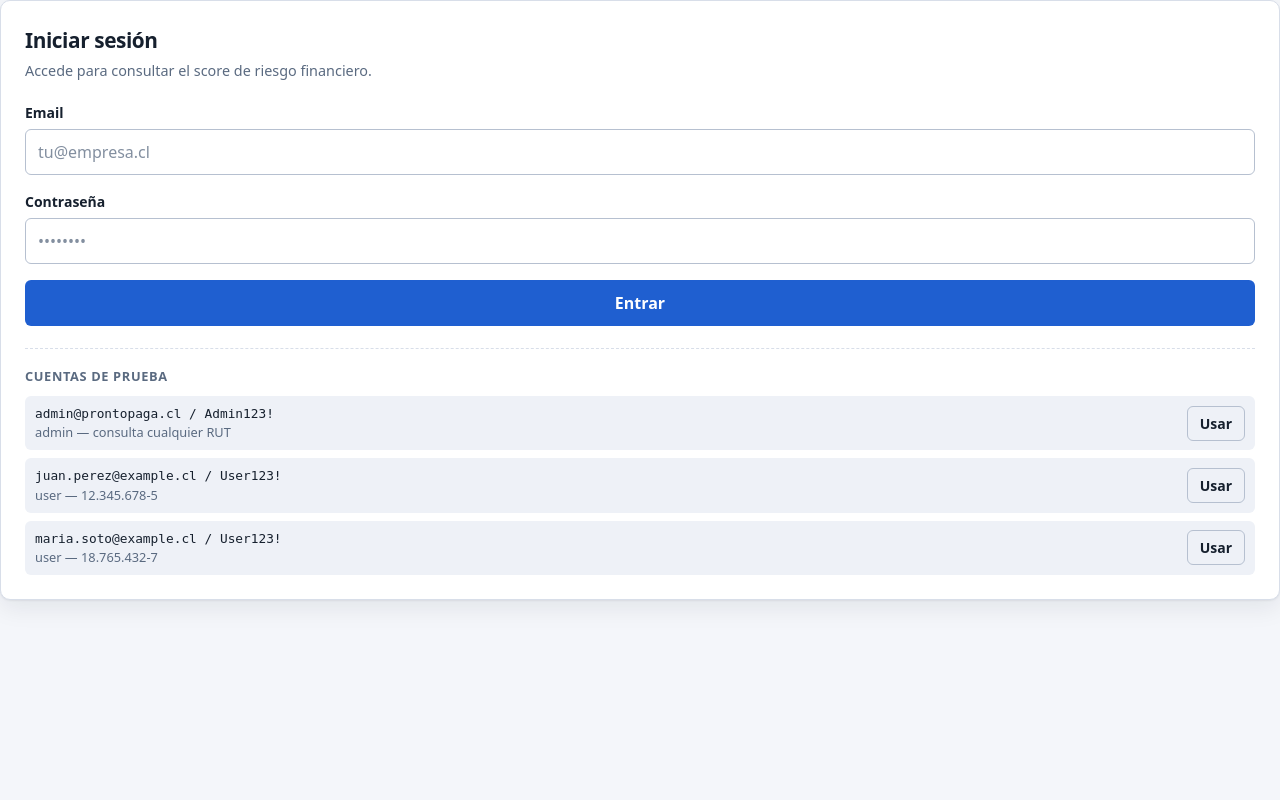
Test: LoginPage › muestra el mensaje de la API cuando las credenciales son incorrectas
Step 1. Type "juan.perez@example.cl" into the field labelled "Email" → (640, 152), box left=25, top=129, right=1255, bottom=175
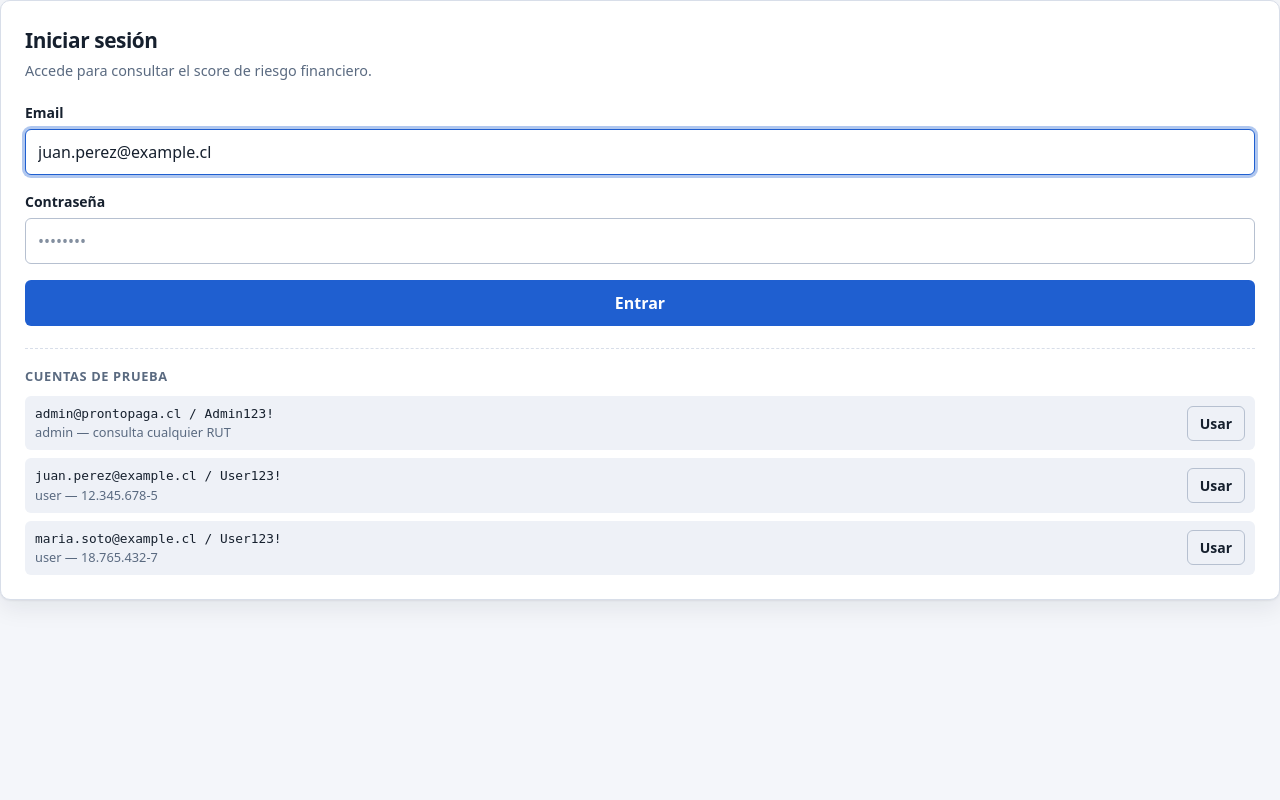
Step 2. Type "incorrecta" into the password field labelled "Contraseña" → (640, 241), box left=25, top=218, right=1255, bottom=264
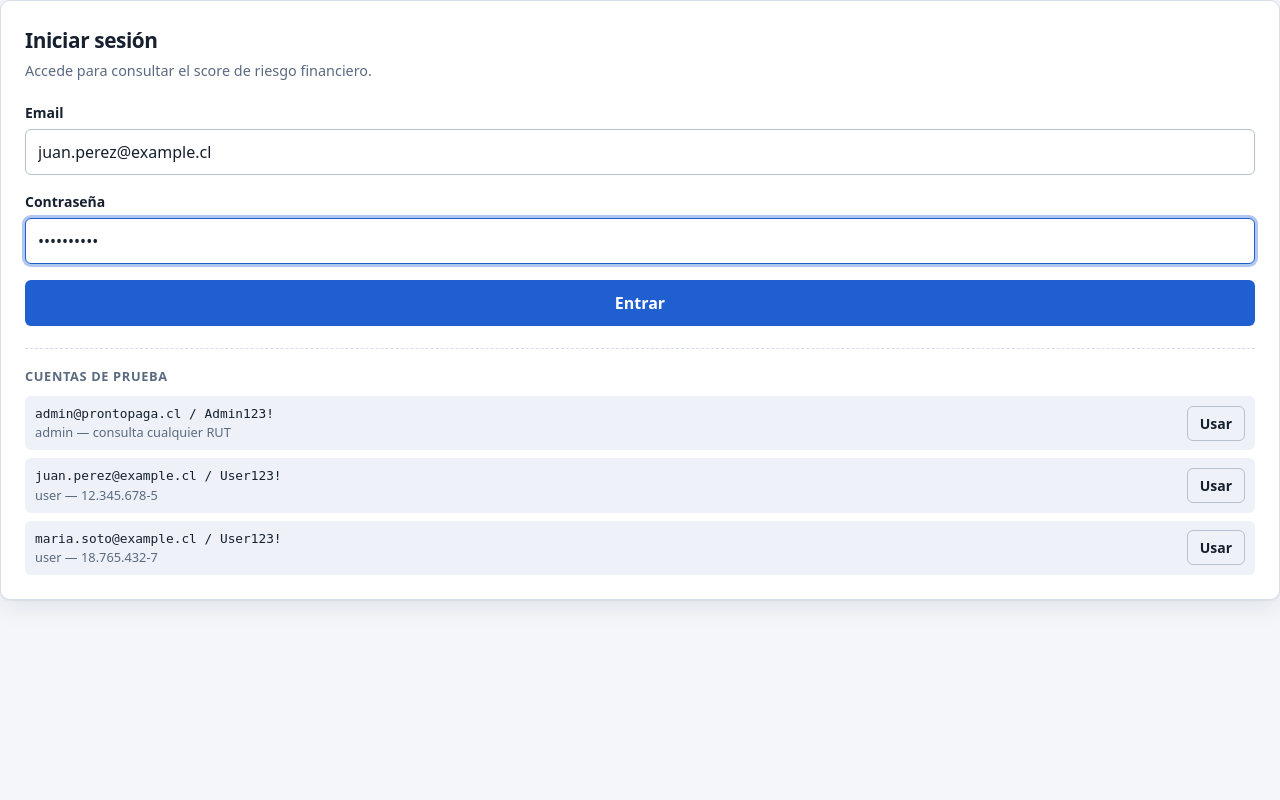
Step 3. Click the button "Entrar" → (640, 303), box left=25, top=280, right=1255, bottom=326
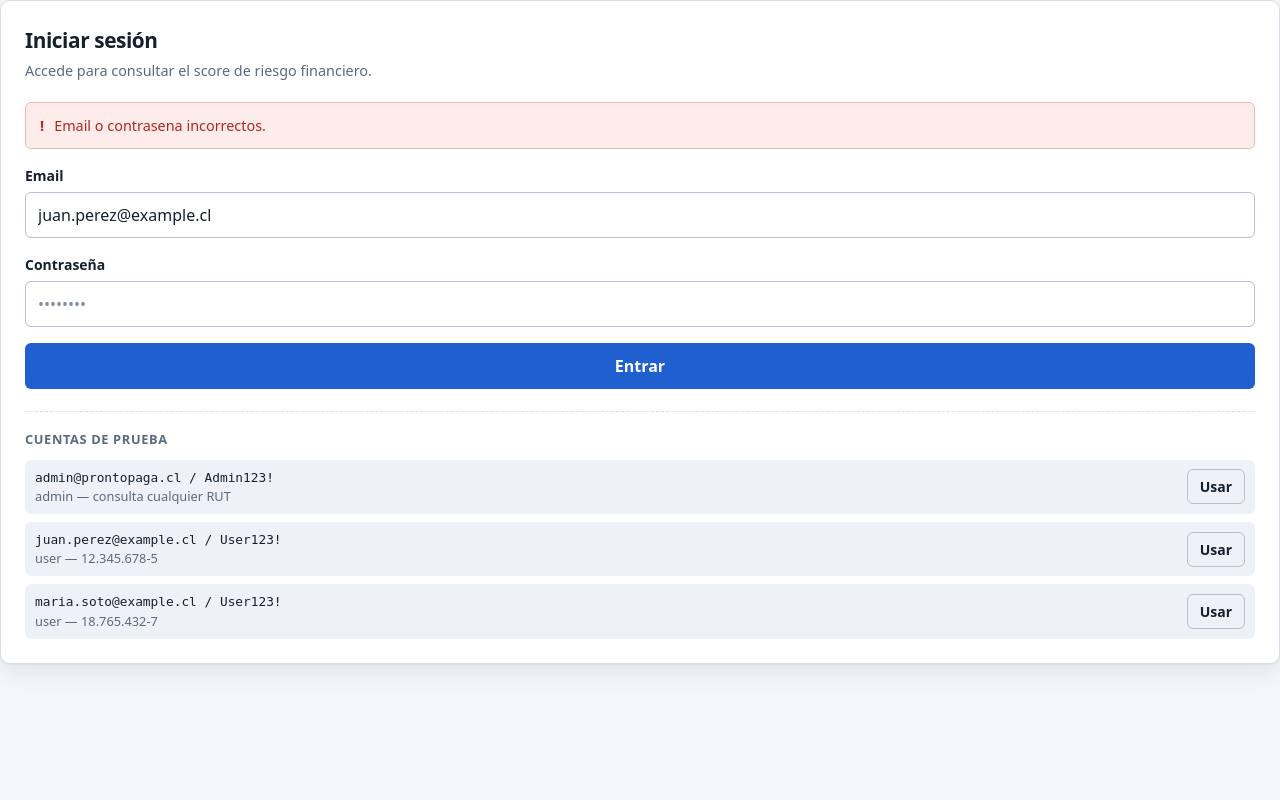
Expected: the message shows "incorrectos", left=54, top=116, right=266, bottom=135
